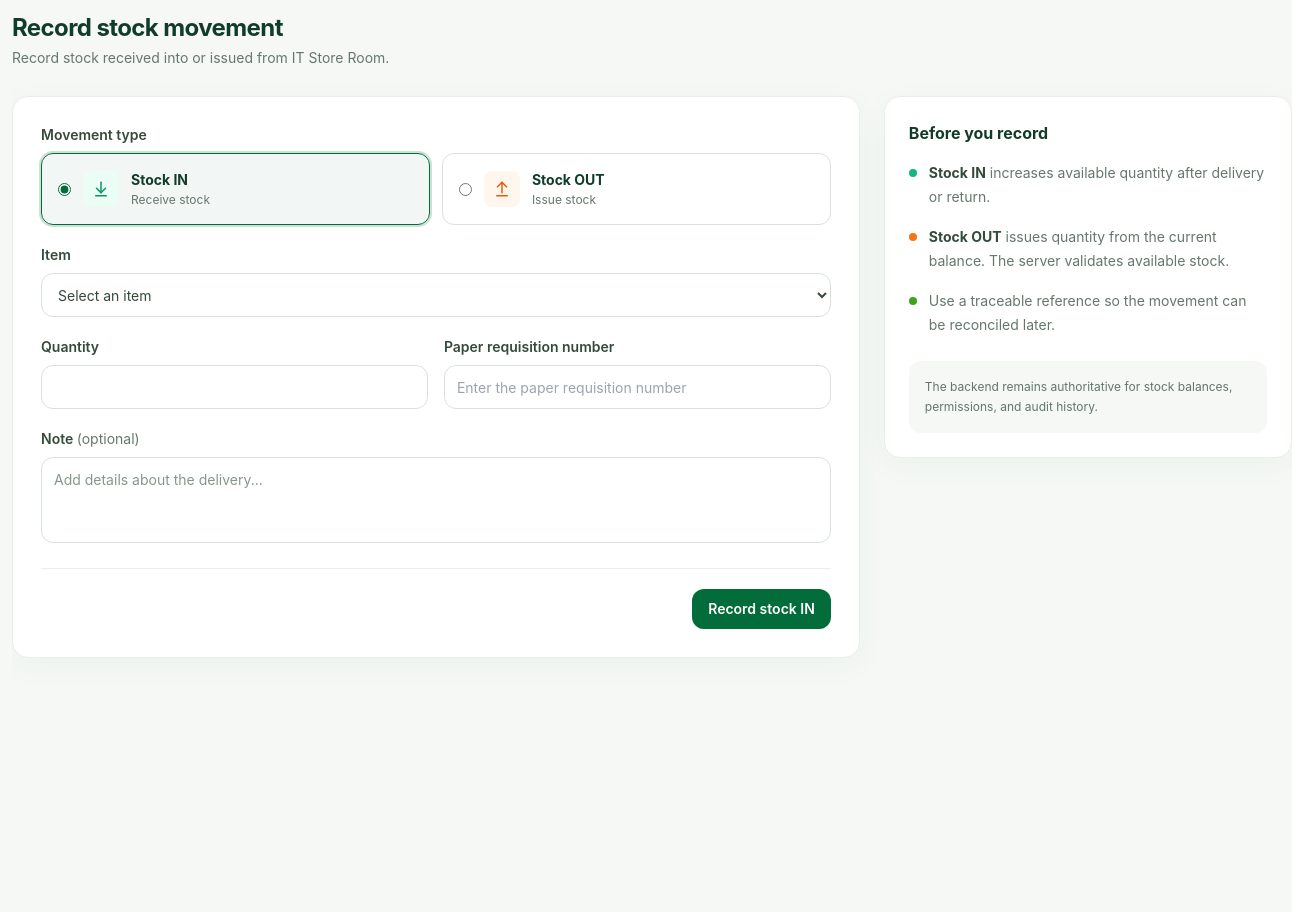
Test: inventory pages › records stock IN and confirms the result
The image size is (1292, 912).
Select "Business laptop (IT-LAP-001)" in the dropdown labelled "Item": coordinates (436, 295) [41,273,831,317]
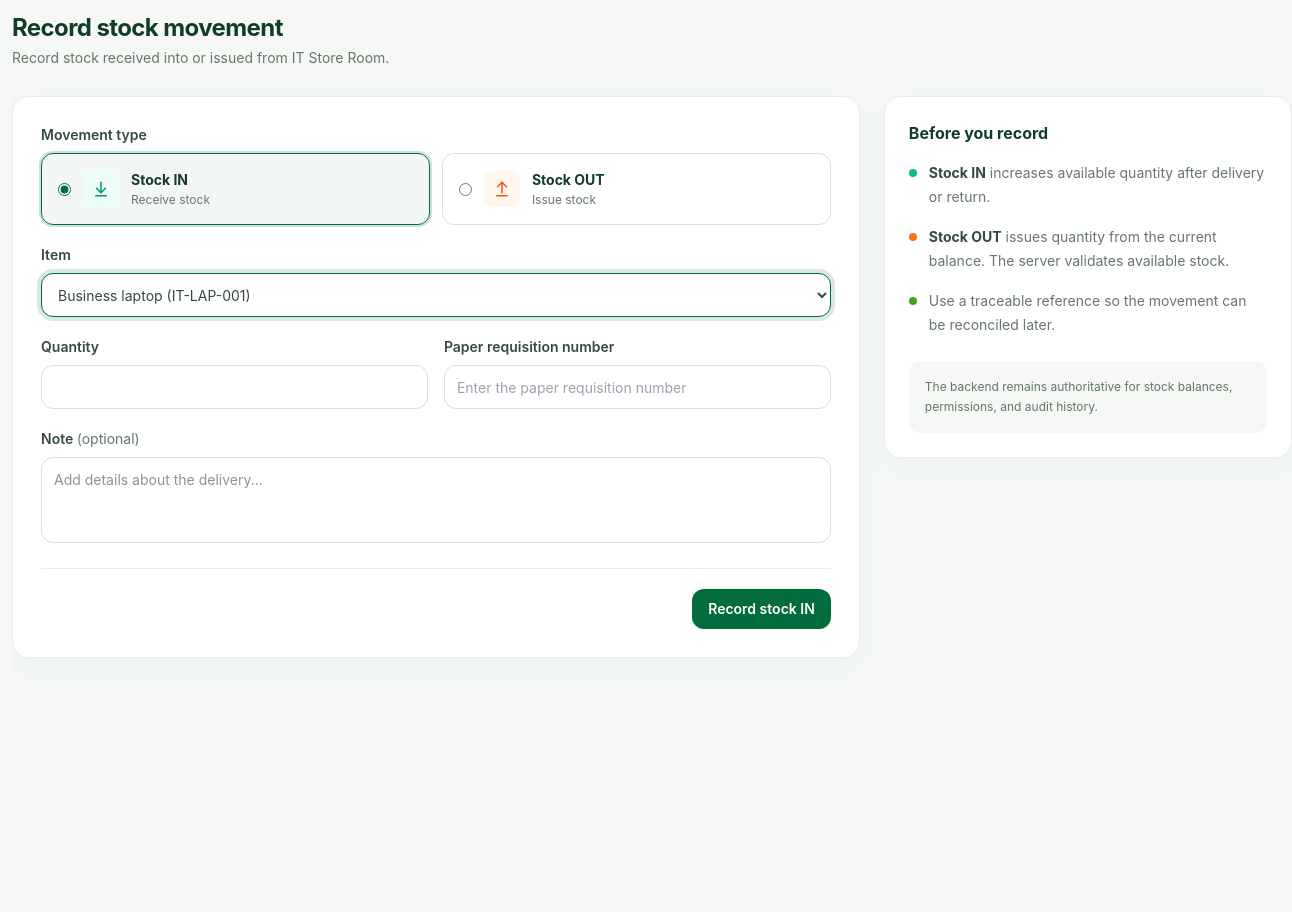
In the number field labelled "Quantity": coordinates (234, 387) [41,365,428,409], type "2"
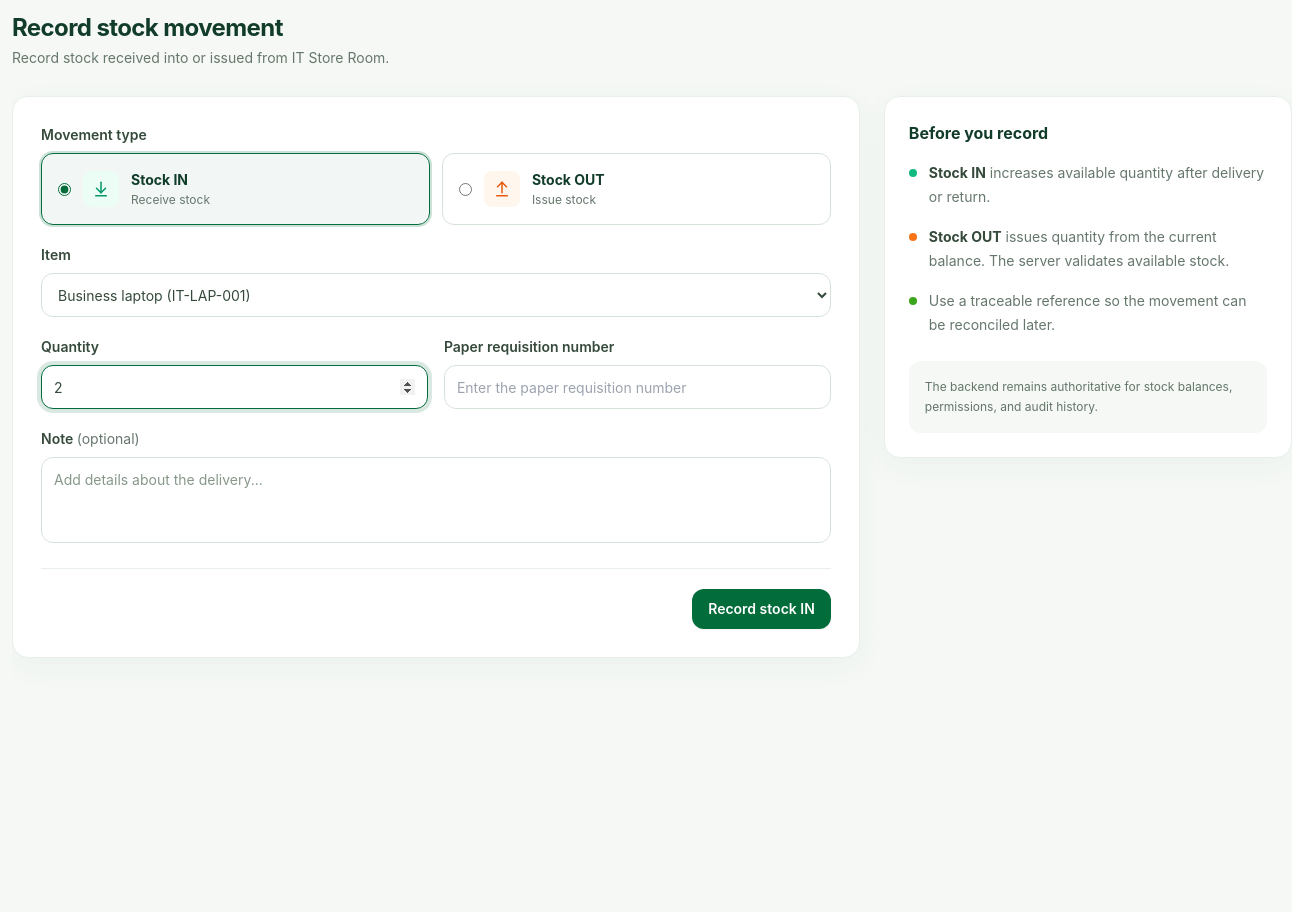
In the field labelled "Paper requisition number": coordinates (637, 387) [444,365,831,409], type "REQ-TEST-1"
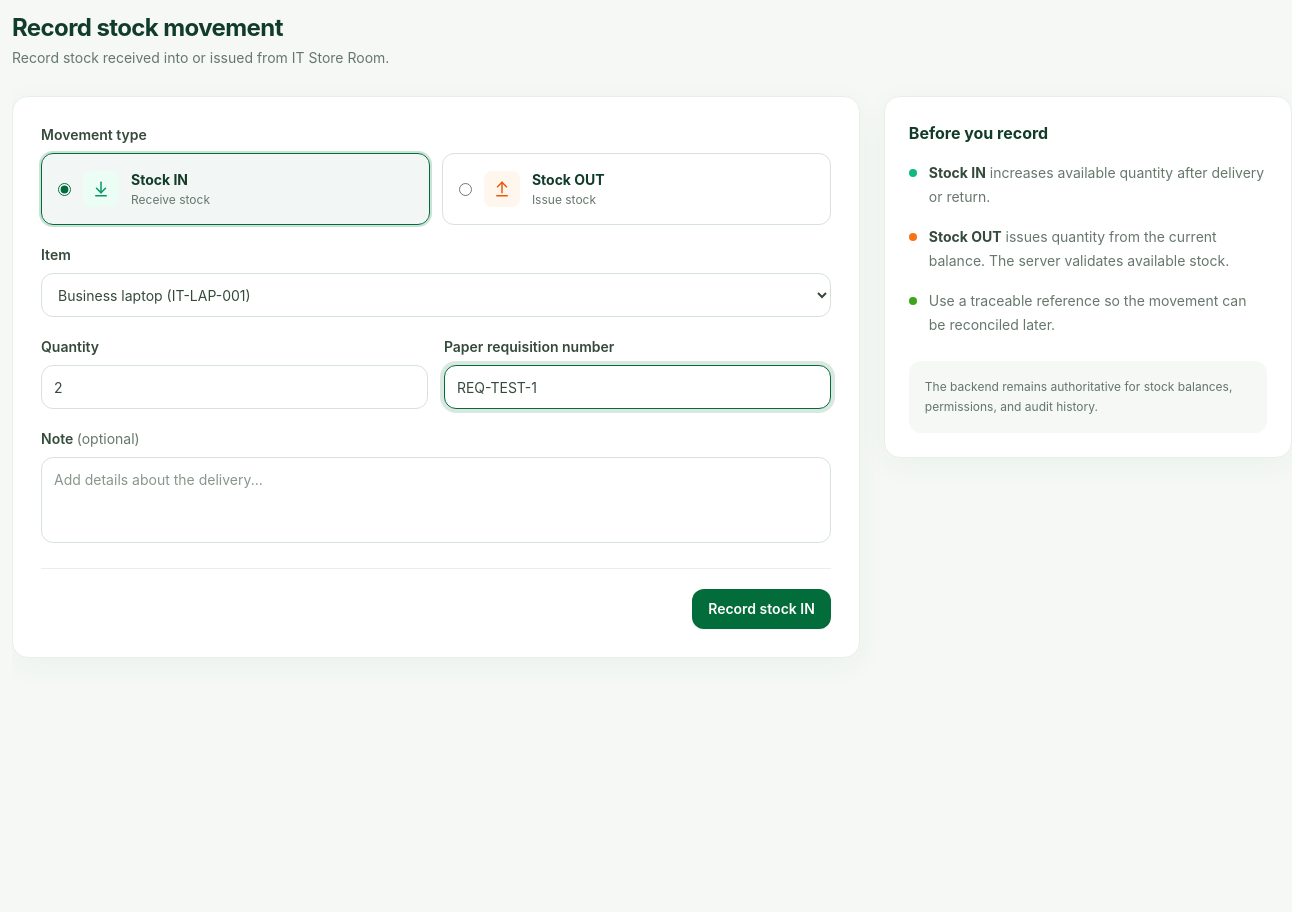
Click the button "Record stock IN": coordinates (762, 609) [692,589,831,629]
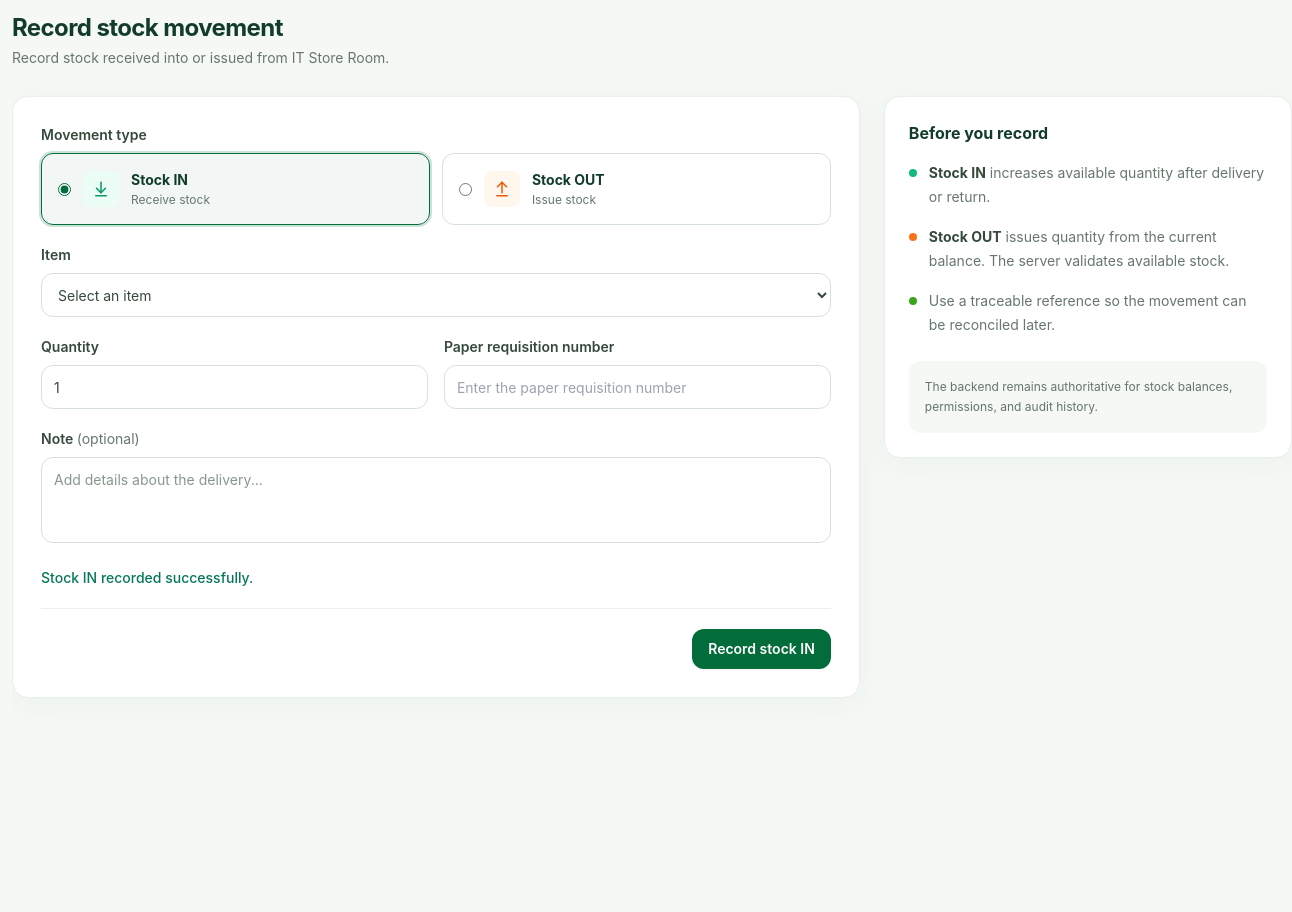
Expected: the message reads "Stock IN recorded successfully.", [41,569,253,586]
